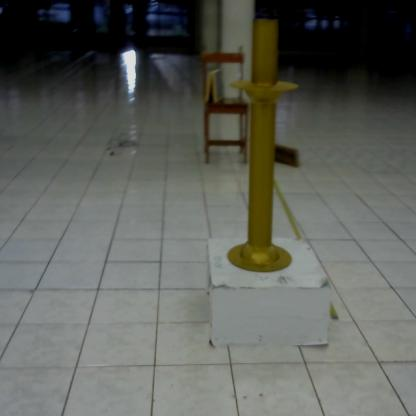pole: (226, 12, 298, 279)
